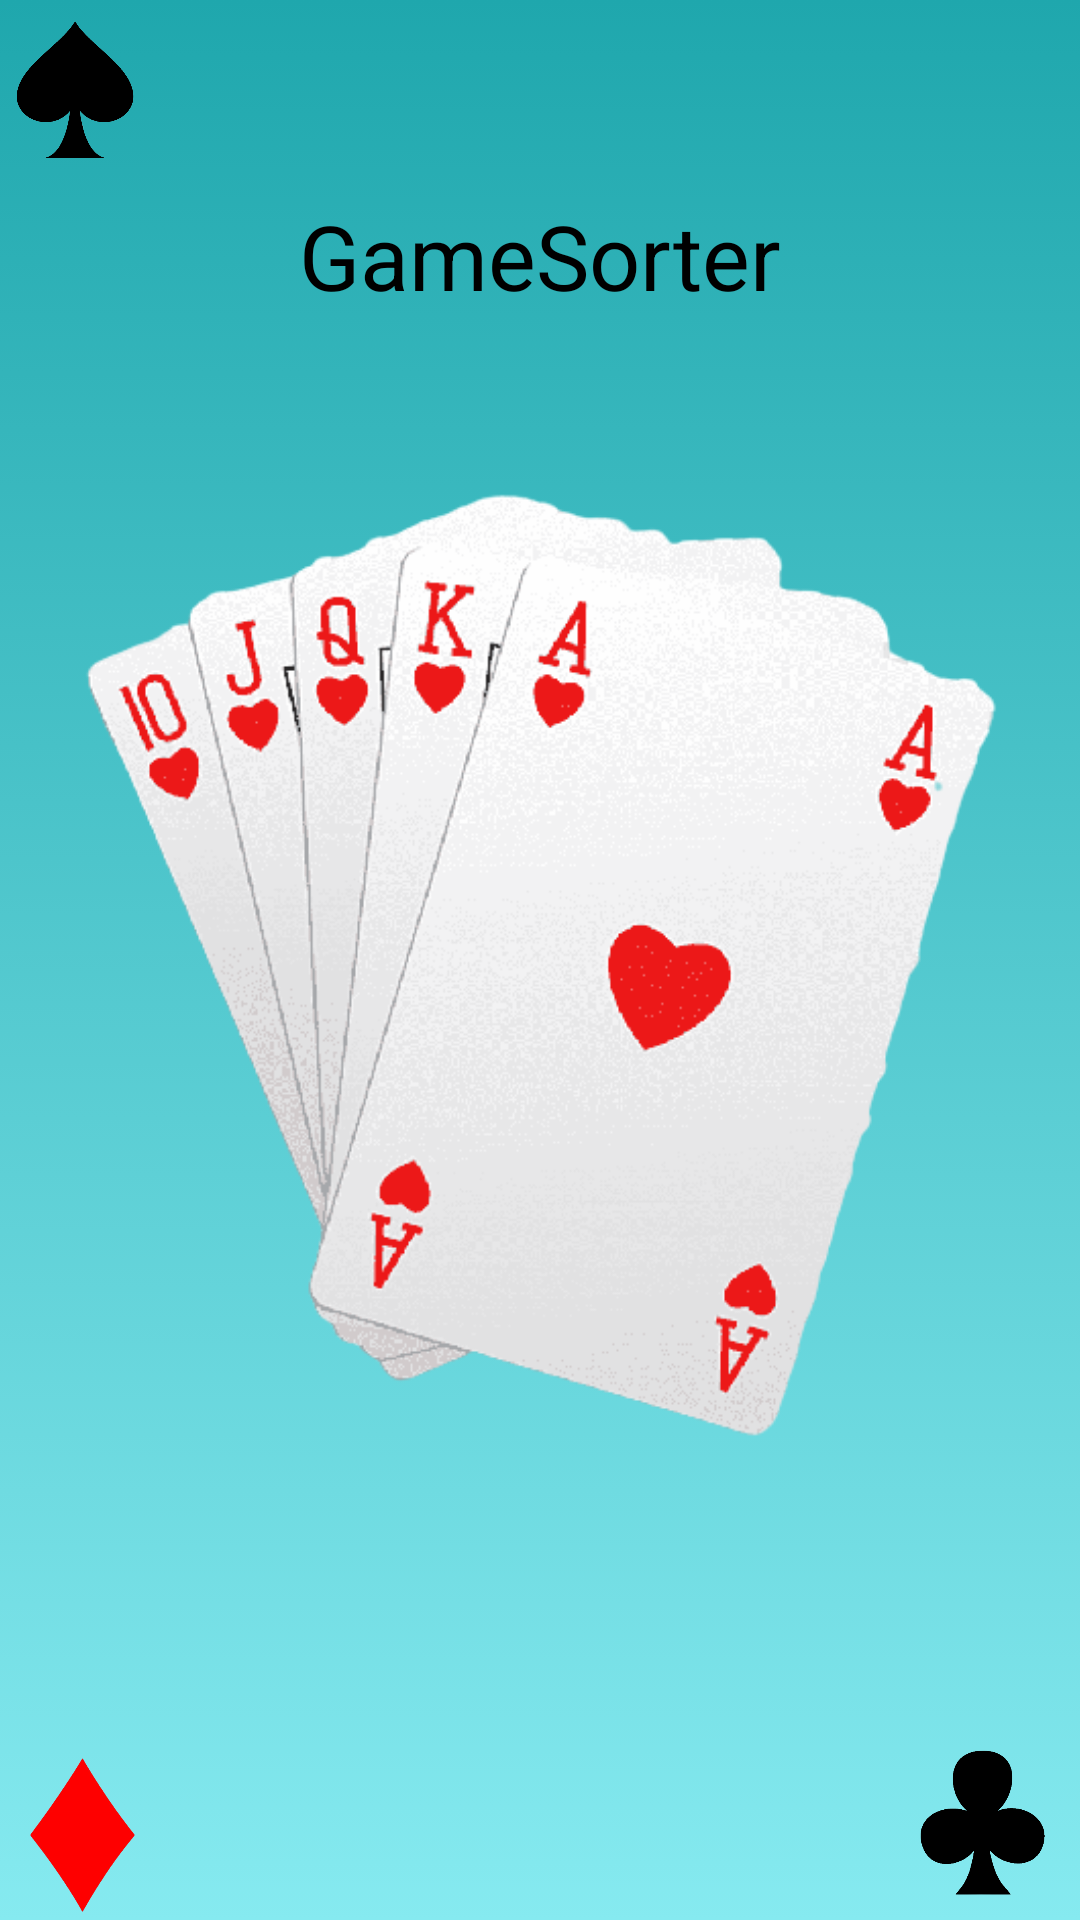

Icons on this 1080px×1920px Android screen, each with its box as (x1, y1, x2, y2):
clubs: (920, 1751, 1045, 1895)
diamonds: (30, 1758, 135, 1912)
spades: (17, 22, 134, 158)
